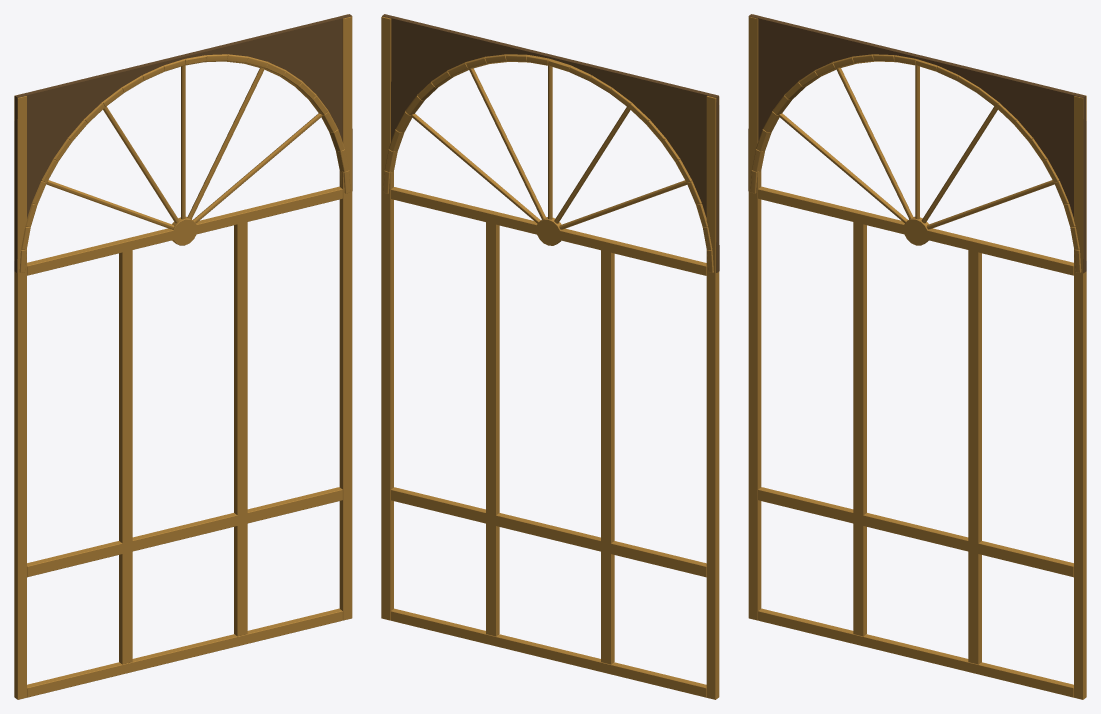
File: prop_of_window_bay.glb
The picture shows the model from 3 angles, left to right: view 1: azimuth 30°, elevation 25°; view 2: azimuth 150°, elevation 25°; view 3: azimuth 330°, elevation 25°; orthographic projection.
Parts seen in each view (by area): view 1: Bay; view 2: Bay; view 3: Bay.
Boxes of the visible parts, left/top/right/bottom form: Bay: left=14, top=14, right=352, bottom=699; Bay: left=381, top=14, right=719, bottom=699; Bay: left=748, top=14, right=1086, bottom=699.
Bounding box in the file's own units: 3.21 × 5.5 × 0.0779.
